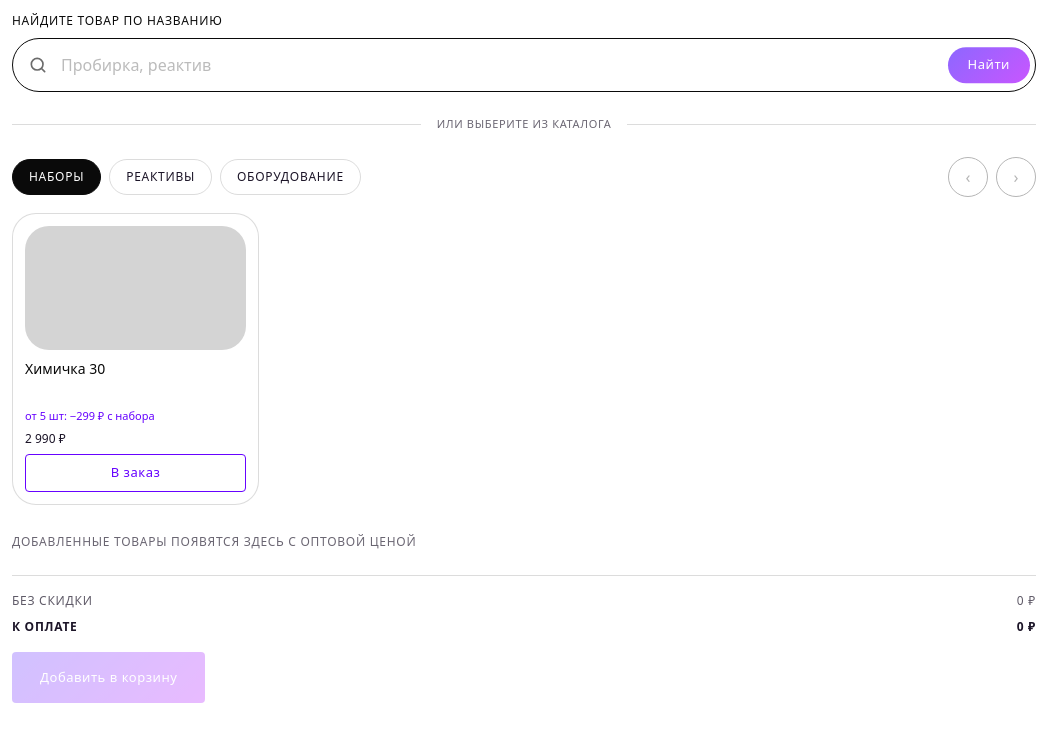
Scenario: WholesaleOrder › «В заказ» в мини-каталоге добавляет строку в список, как выбор из поиска
The width and height of the screenshot is (1048, 742).
Click the button with aria-label "Химичка 30: добавить в заказ" at [136, 473], box x1=25 y1=454 x2=246 y2=492
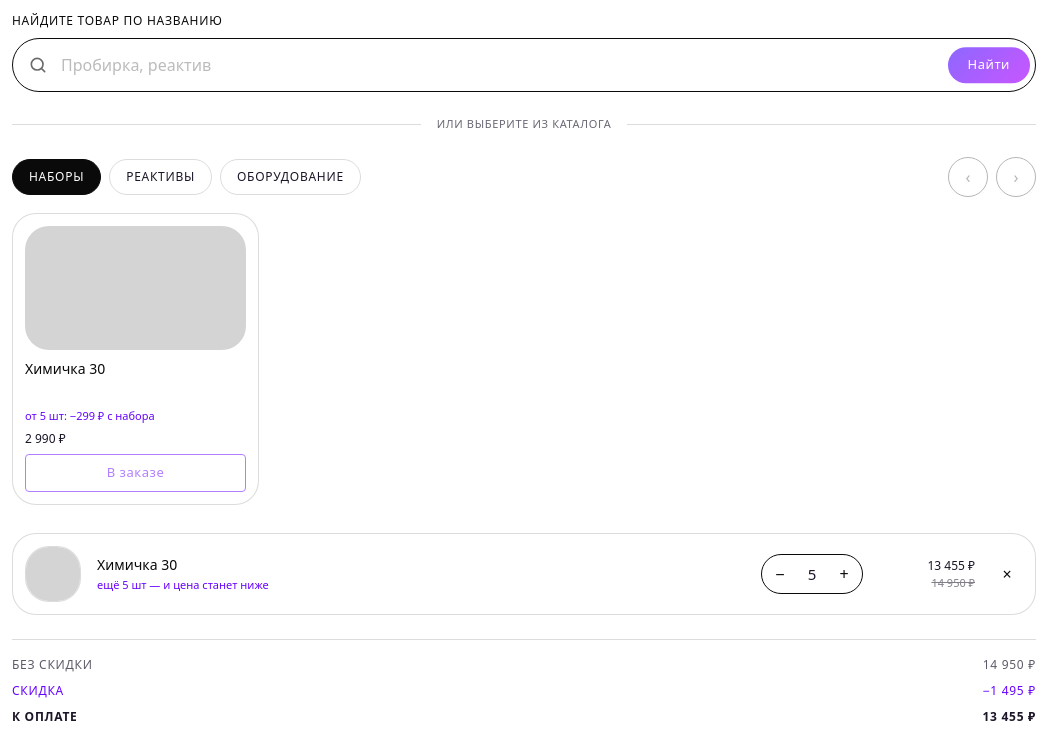
Expected: the 2nd text "Химичка 30" is shown, x1=97 y1=555 x2=177 y2=574
